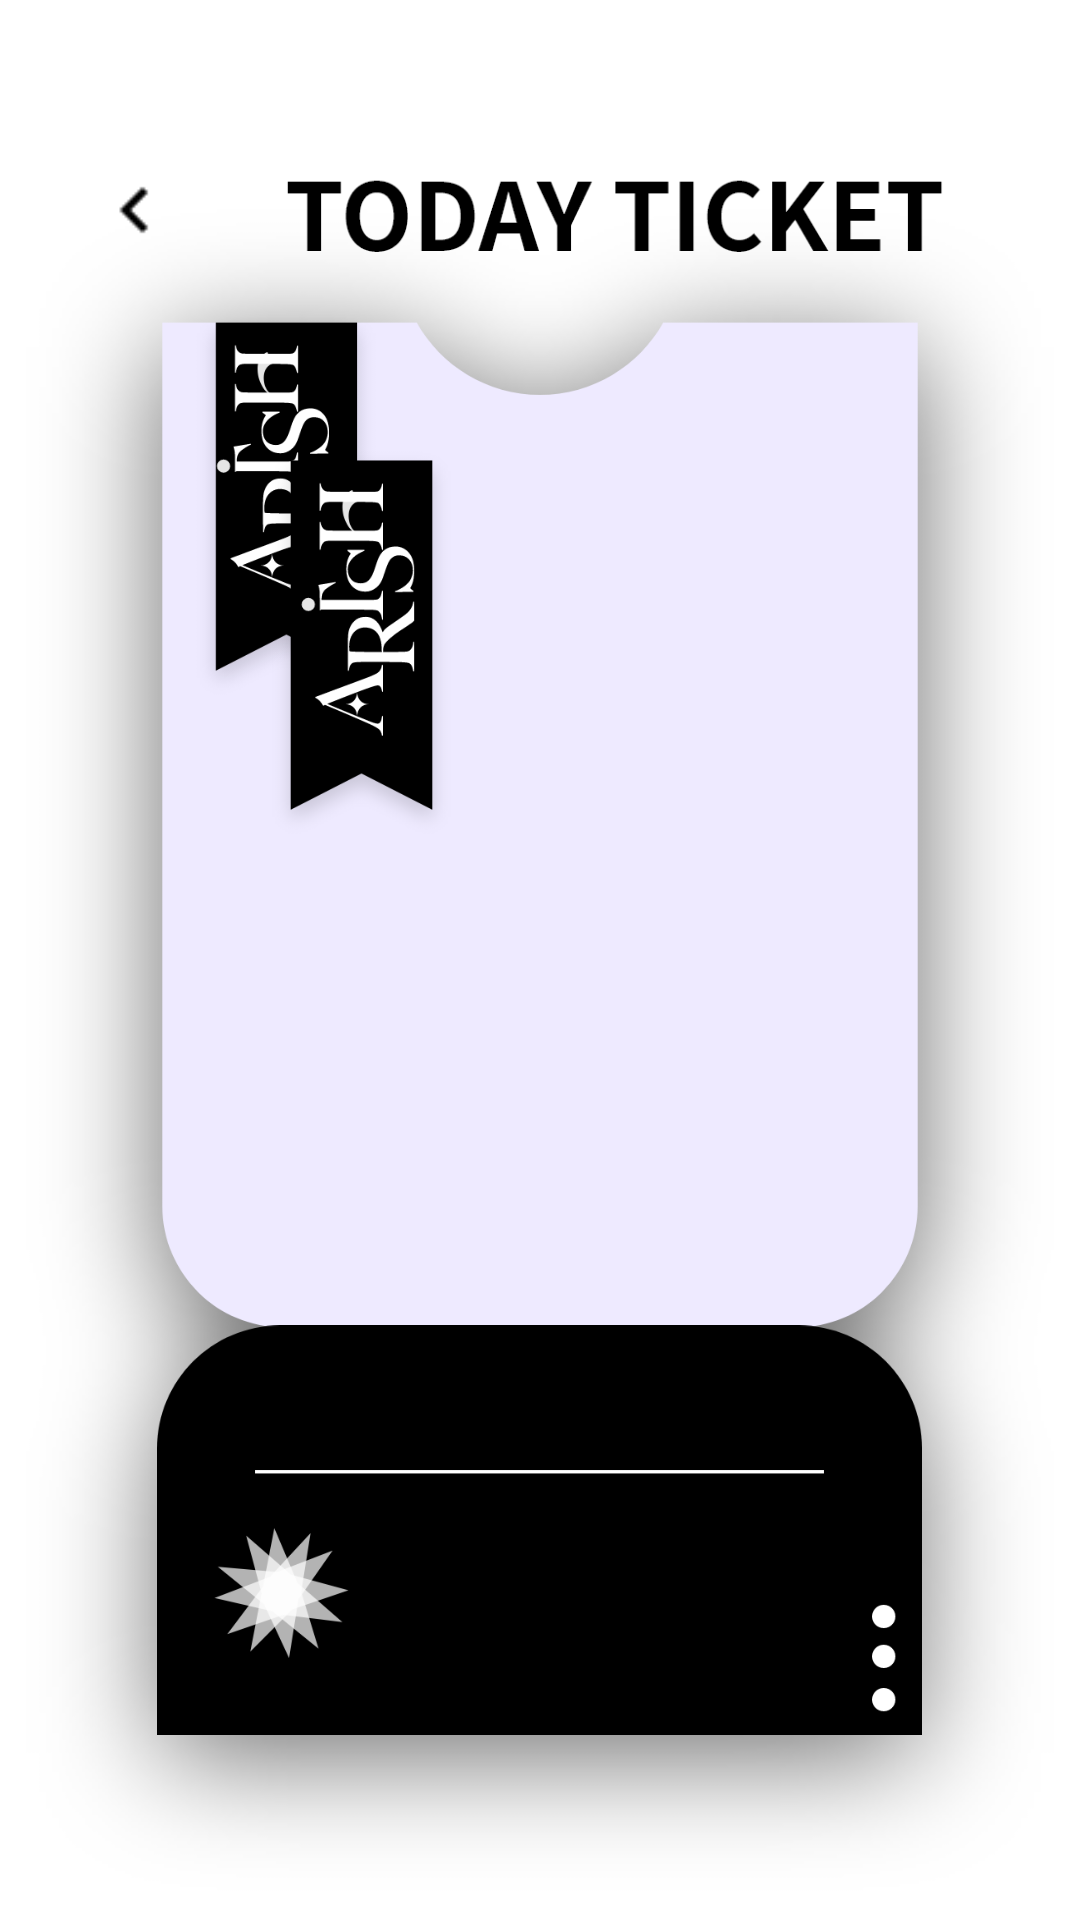

Icon click points for this 1080 × 1920 phone screenshot, format [x,y]:
iconblackleft: [133,210]
